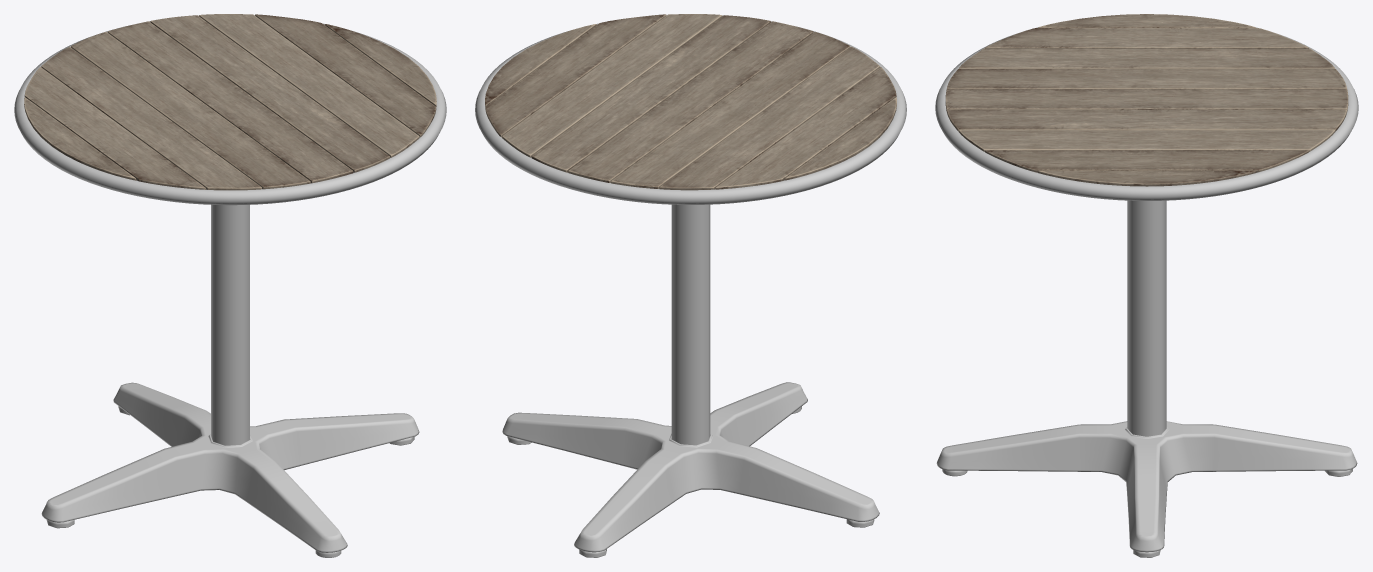
Rendered from table.fbx.
3 views of the same model, side by side, from view 1: azimuth 30°, elevation 25°; view 2: azimuth 150°, elevation 25°; view 3: azimuth 270°, elevation 25° (orthographic). The views are drawn at different scales.
Visible parts, largest first — view 1: tabletop, tablelegs, tablestand, tableframe; view 2: tabletop, tablelegs, tablestand, tableframe; view 3: tabletop, tablelegs, tablestand, tableframe.
Part boxes in pixels (x1,y1,x2,y2): tabletop: (24, 14, 436, 190); tablelegs: (41, 382, 419, 552); tablestand: (211, 205, 249, 445); tableframe: (14, 15, 446, 205); tabletop: (485, 14, 896, 190); tablelegs: (502, 382, 879, 552); tablestand: (671, 204, 710, 445); tableframe: (475, 15, 906, 204); tabletop: (945, 14, 1348, 186); tablelegs: (936, 421, 1357, 552); tablestand: (1127, 200, 1166, 436); tableframe: (935, 27, 1358, 200).
Bounding box in the file's own units: 111 × 107 × 111.
